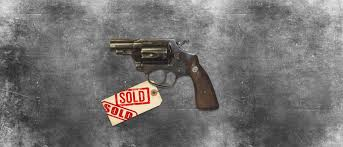gun: (109, 36, 223, 114)
